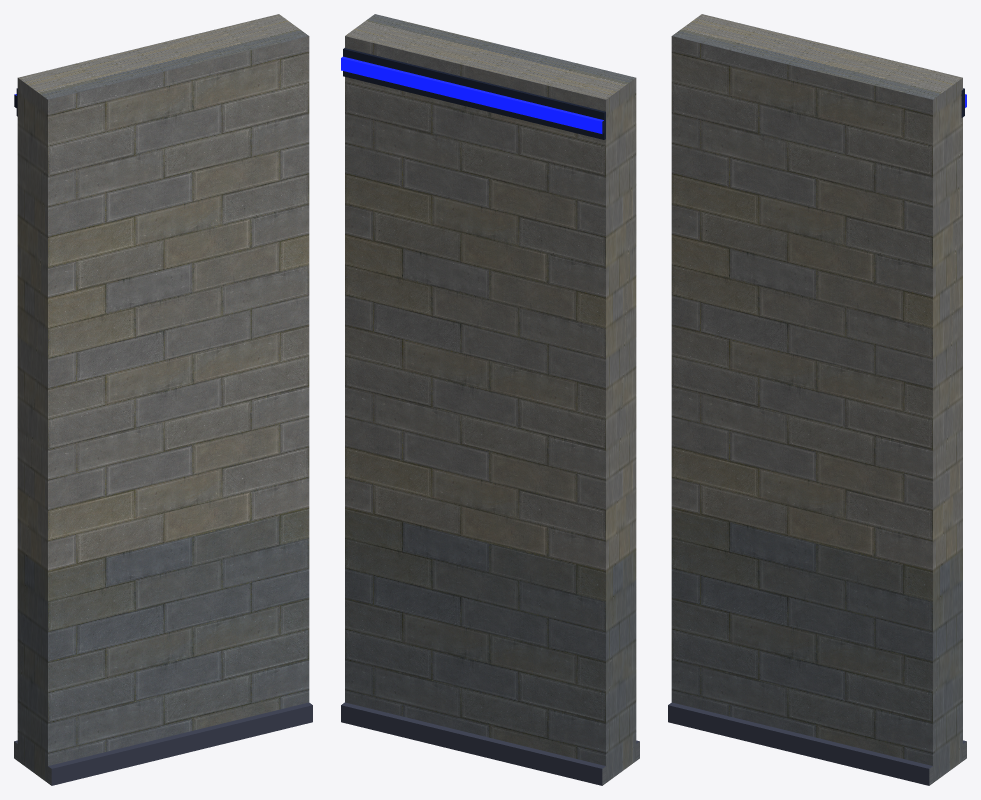
The model's file is BrickWall.fbx.
3 renders of one model, left to right at view 1: azimuth 30°, elevation 25°; view 2: azimuth 150°, elevation 25°; view 3: azimuth 330°, elevation 25°, orthographic.
Visible parts, largest first — view 1: Wall008; view 2: Wall008; view 3: Wall008.
Boxes of the visible parts, box(x1,y1,x2,y2) form: Wall008: box(14, 14, 312, 785); Wall008: box(341, 14, 639, 785); Wall008: box(668, 14, 966, 785).
Bounding box in the file's own units: 1 × 2.5 × 0.25.
